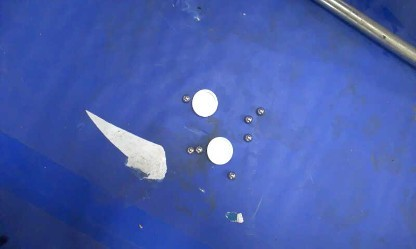ironball: (243, 115, 252, 123), (243, 133, 252, 141), (256, 107, 264, 115), (227, 171, 235, 179), (182, 94, 190, 102), (186, 146, 194, 153), (195, 145, 202, 153)
